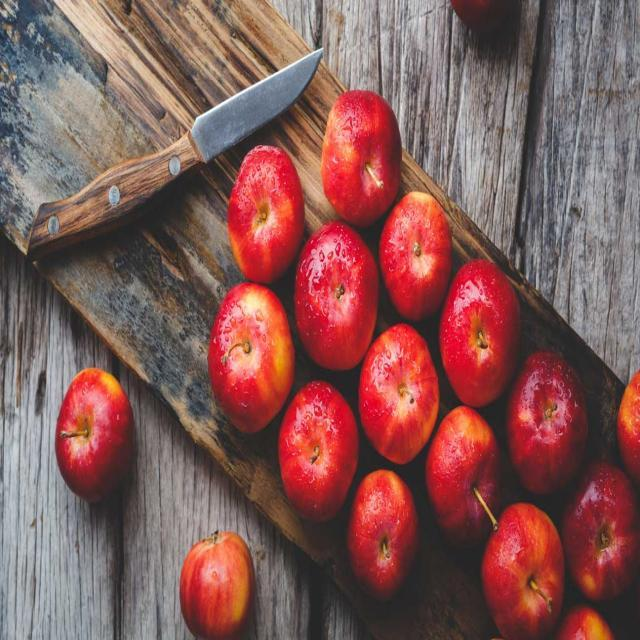Fresh Apple: (482, 493, 578, 635), (317, 80, 408, 225), (208, 278, 294, 427), (297, 225, 383, 372), (435, 262, 523, 400), (507, 350, 590, 493), (275, 377, 363, 510), (358, 322, 445, 455), (342, 473, 430, 602), (56, 372, 142, 500), (225, 142, 307, 268), (563, 468, 640, 601), (428, 408, 502, 528), (178, 527, 260, 633), (384, 198, 454, 310)
